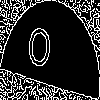O: (25, 25, 53, 78)
